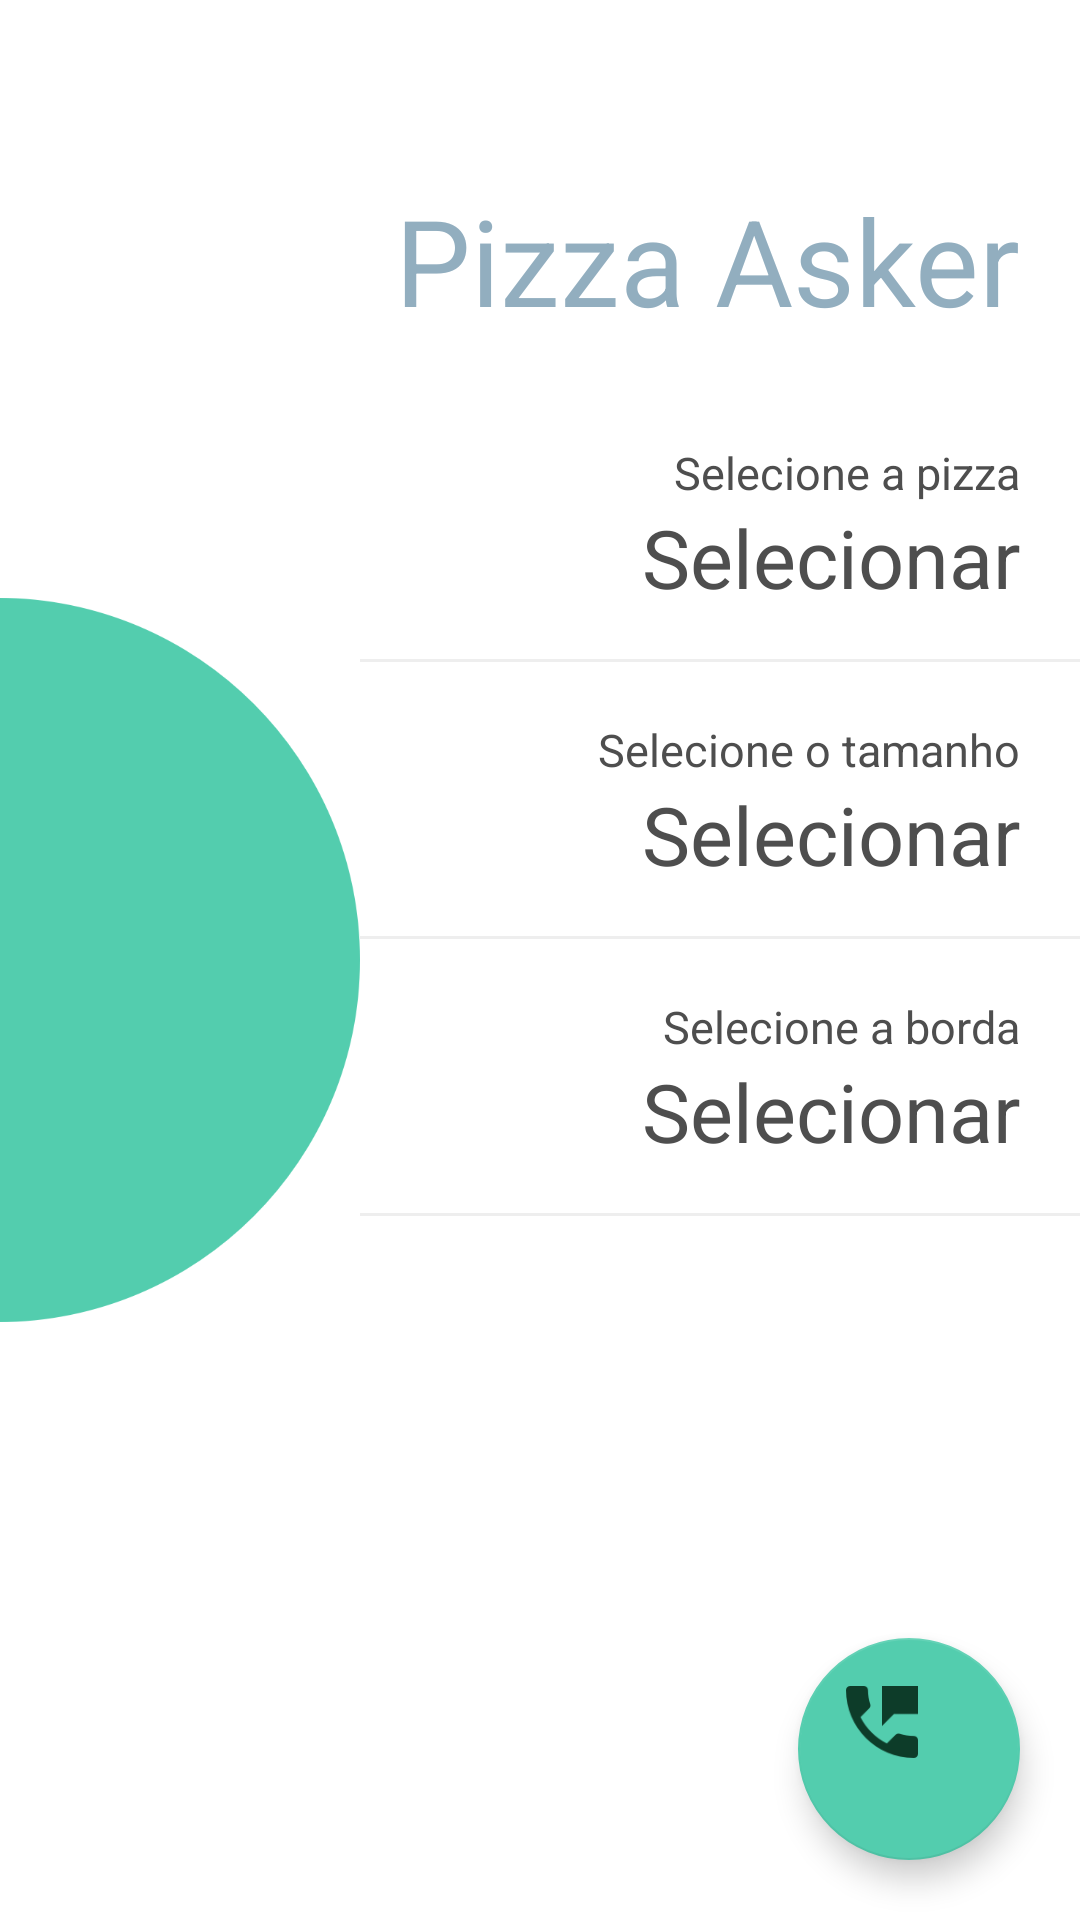

Icon click points for this 1080w x 1920h phone screenshot, format point (x, y):
phone: point (909, 1749)
